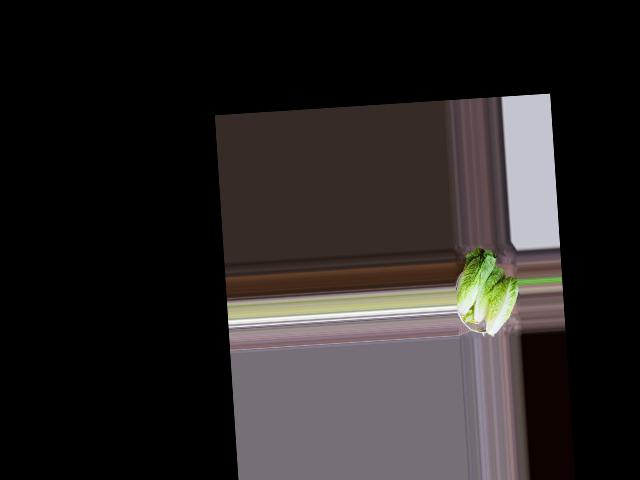lettuce: (452, 248, 501, 322)
